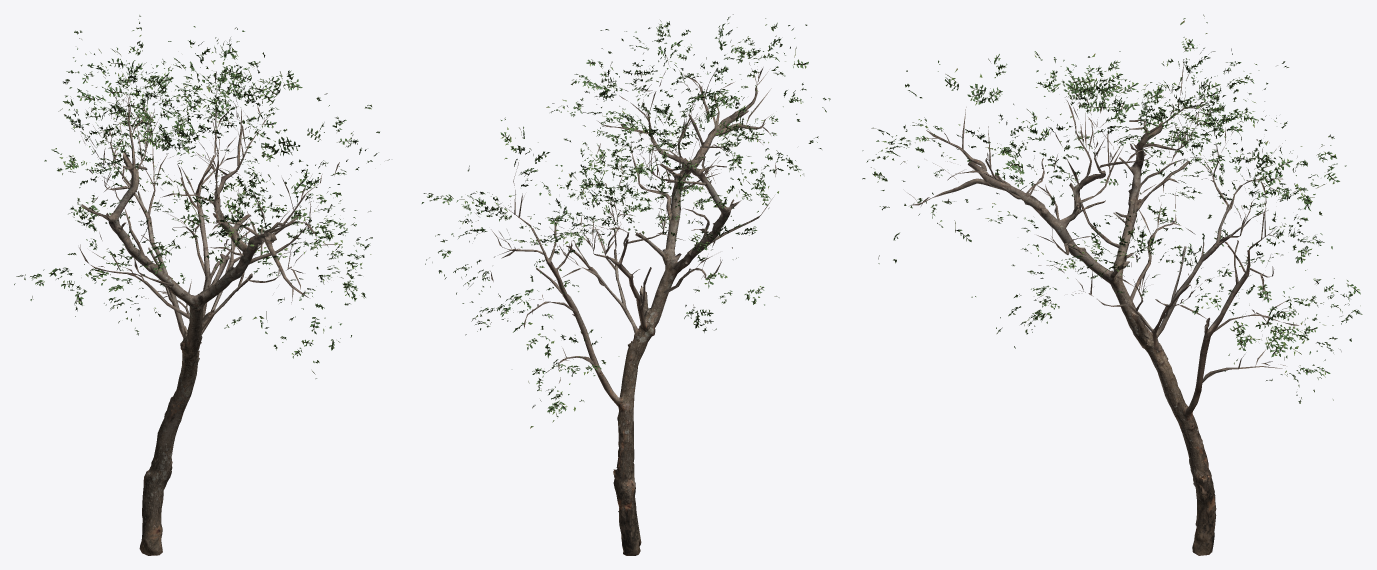
The model's file is tree-cinema.glb.
3 views of the same model, side by side, from view 1: azimuth 30°, elevation 25°; view 2: azimuth 150°, elevation 25°; view 3: azimuth 270°, elevation 25° (orthographic). The views are drawn at different scales.
Parts seen in each view (by area): view 1: tree_small_02_LOD0; view 2: tree_small_02_LOD0; view 3: tree_small_02_LOD0.
Boxes of the visible parts, x1,y1,x2,y2 form: tree_small_02_LOD0: (14,15,389,555); tree_small_02_LOD0: (421,14,830,555); tree_small_02_LOD0: (862,14,1362,555).
Size of the model in its own units: 2.87 by 4.54 by 4.11.
Materials: 3 (3 with a texture image).
